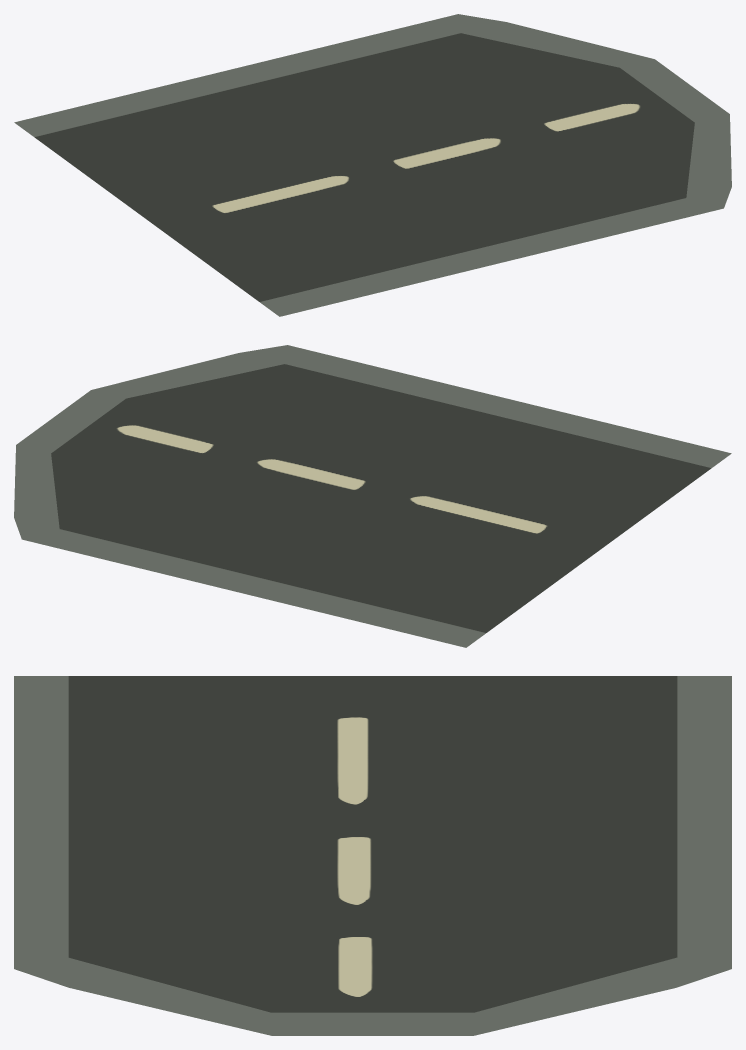
File: Road_StraightEnd.FBX
The picture shows the model from 3 angles, top to bottom: view 1: azimuth 30°, elevation 25°; view 2: azimuth 150°, elevation 25°; view 3: azimuth 270°, elevation 25°; orthographic projection. The views are drawn at different scales.
Visible parts, largest first — view 1: Straight; view 2: Straight; view 3: Straight.
Boxes of the visible parts, x1,y1,x2,y2 form: Straight: (14, 14, 731, 316); Straight: (14, 345, 731, 647); Straight: (14, 676, 731, 1035).
Bounding box in the file's own units: 112 × 5.79e-15 × 94.46.
1 material, 1 textured.
